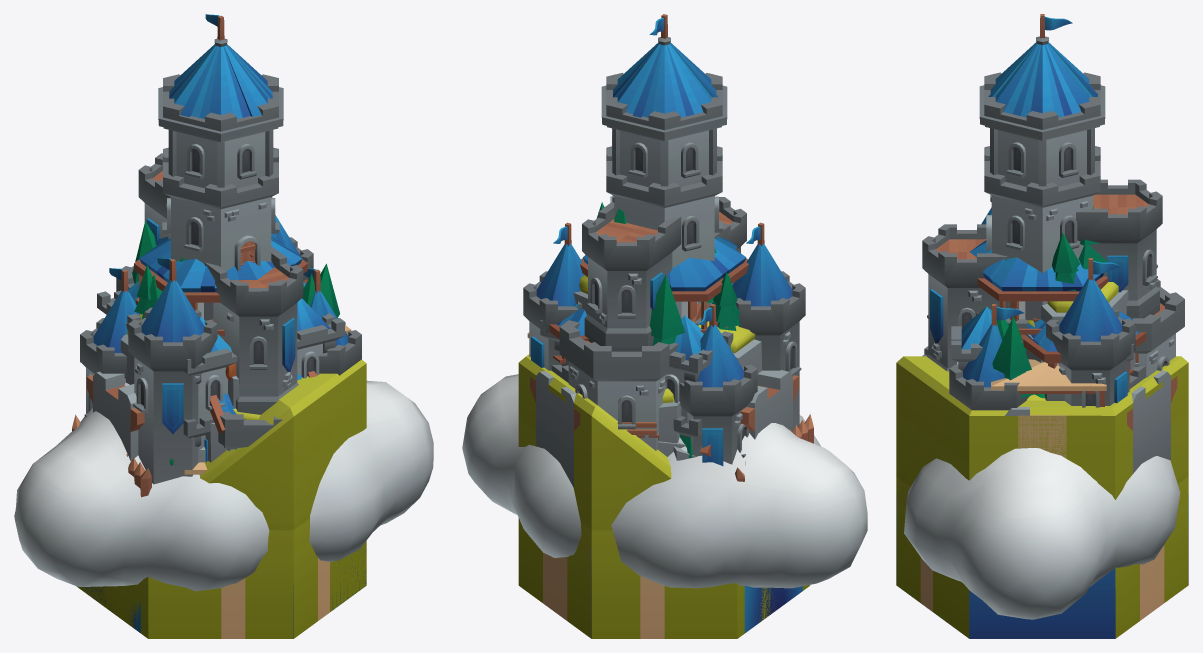
The model's file is hex.glb.
3 renders of one model, left to right at view 1: azimuth 30°, elevation 25°; view 2: azimuth 150°, elevation 25°; view 3: azimuth 270°, elevation 25°, orthographic.
Parts seen in each view (by area): view 1: building_castle_blue, cloud_big, hex_grass_sloped_high, building_barracks_blue, hex_river_B, building_tower_B_top_blue, hex_road_I, hex_road_D, hex_road_G, hex_road_A_sloped_high, hex_road_J, hex_coast_A (+7 smaller); view 2: building_castle_blue, cloud_big, hex_grass_sloped_high, hex_road_C, hex_road_B, hex_coast_E, wall_corner_A_outside, building_tower_B_top_blue, building_barracks_blue, mountain_C_grass_trees, wall_corner_A_inside, hex_river_B (+6 smaller); view 3: building_castle_blue, cloud_big, hex_road_A_sloped_high, hex_grass_sloped_high, hex_coast_D, building_tower_B_top_blue, hex_road_B, mountain_B_grass_trees, hex_road_D, building_scaffolding, wall_corner_A_outside, hex_road_E (+6 smaller).
Part boxes in pixels (x1,y1,x2,y2): building_castle_blue: [80, 14, 361, 484]; cloud_big: [14, 380, 433, 591]; hex_grass_sloped_high: [199, 359, 366, 611]; building_barracks_blue: [97, 281, 344, 462]; hex_river_B: [82, 530, 293, 638]; building_tower_B_top_blue: [134, 236, 307, 341]; hex_road_I: [221, 565, 290, 638]; hex_road_D: [294, 519, 330, 638]; hex_road_G: [258, 530, 293, 638]; hex_road_A_sloped_high: [200, 373, 366, 610]; hex_road_J: [221, 520, 317, 638]; hex_coast_A: [77, 577, 293, 638]; building_castle_blue: [523, 14, 805, 465]; cloud_big: [462, 374, 867, 588]; hex_grass_sloped_high: [518, 354, 671, 530]; hex_road_C: [591, 530, 664, 638]; hex_road_B: [543, 522, 591, 638]; hex_coast_E: [664, 584, 736, 638]; wall_corner_A_outside: [536, 370, 792, 488]; building_tower_B_top_blue: [580, 236, 748, 333]; building_barracks_blue: [540, 283, 733, 437]; mountain_C_grass_trees: [659, 248, 762, 443]; wall_corner_A_inside: [530, 375, 799, 459]; hex_river_B: [737, 584, 810, 638]; building_castle_blue: [922, 14, 1184, 410]; cloud_big: [904, 448, 1180, 619]; hex_road_A_sloped_high: [896, 356, 1188, 611]; hex_grass_sloped_high: [896, 356, 1188, 608]; hex_coast_D: [936, 494, 1188, 638]; building_tower_B_top_blue: [970, 240, 1108, 348]; hex_road_B: [1140, 477, 1188, 620]; mountain_B_grass_trees: [996, 206, 1135, 400]; hex_road_D: [896, 477, 932, 611]; building_scaffolding: [991, 359, 1106, 406]; wall_corner_A_outside: [1131, 376, 1177, 460]; hex_road_E: [1115, 546, 1164, 638].
Bounding box in the file's own units: 3.61 × 4.98 × 2.31.
Materials: 1 (1 with a texture image).
